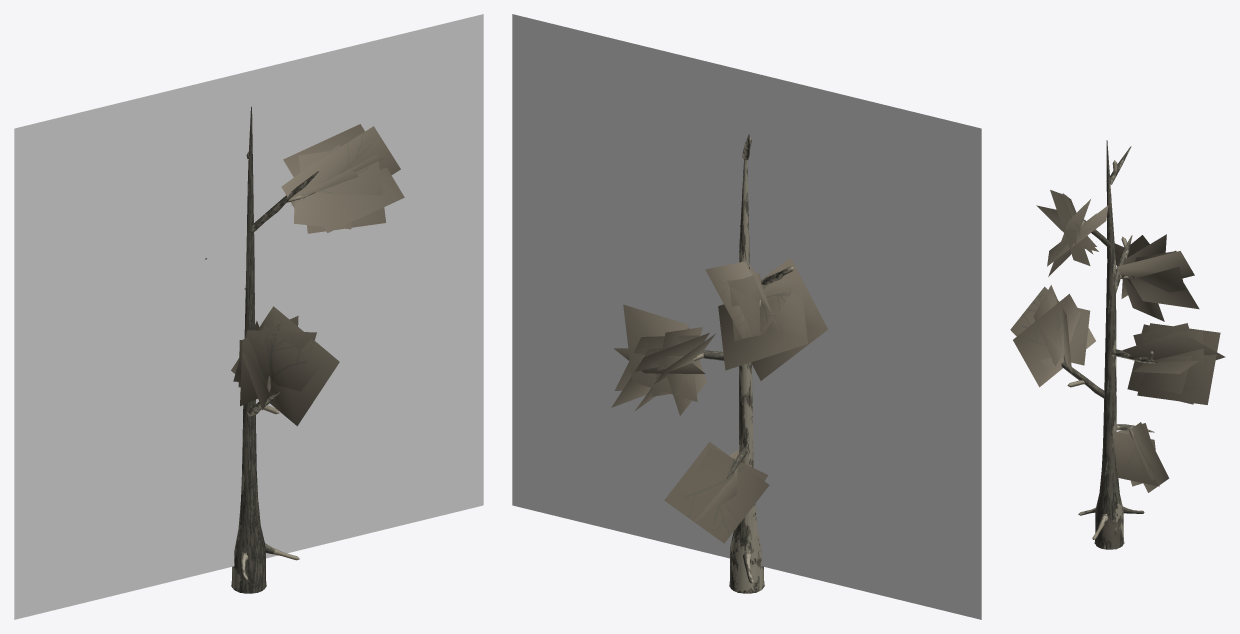
The model's file is mort_jeune_a.fbx.
3 renders of one model, left to right at view 1: azimuth 30°, elevation 25°; view 2: azimuth 150°, elevation 25°; view 3: azimuth 270°, elevation 25°, orthographic. The views are drawn at different scales.
Visible parts, largest first — view 1: mort_jeune_a_LOD3, mort_jeune_a_LOD1, mort_jeune_a_LOD2; view 2: mort_jeune_a_LOD3, mort_jeune_a_LOD1, mort_jeune_a_LOD2; view 3: mort_jeune_a_LOD1, mort_jeune_a_LOD2.
Part boxes in pixels (x1,y1,x2,y2): mort_jeune_a_LOD3: (14, 14, 483, 619); mort_jeune_a_LOD1: (205, 106, 404, 593); mort_jeune_a_LOD2: (231, 110, 318, 592); mort_jeune_a_LOD3: (512, 14, 981, 619); mort_jeune_a_LOD1: (611, 134, 827, 593); mort_jeune_a_LOD2: (695, 135, 793, 592); mort_jeune_a_LOD1: (1010, 140, 1225, 549); mort_jeune_a_LOD2: (1061, 140, 1153, 549).
Size of what is drawn, in the model's own units: 4.45 by 4.67 by 2.1.
